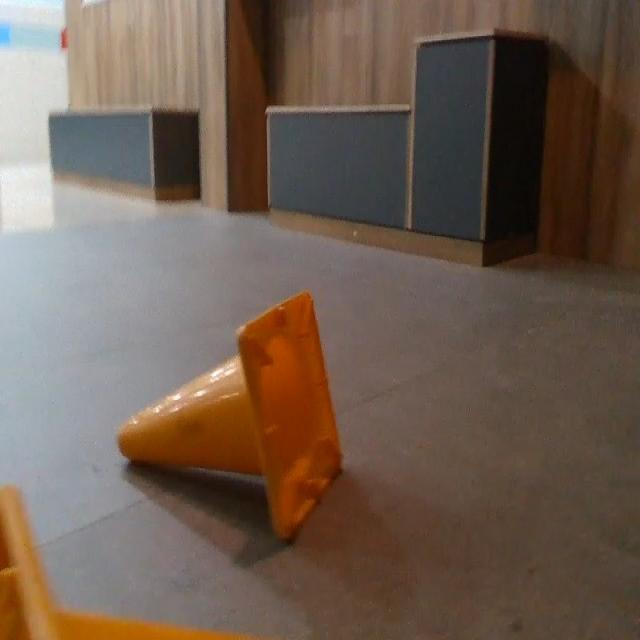cone: (118, 287, 350, 541)
